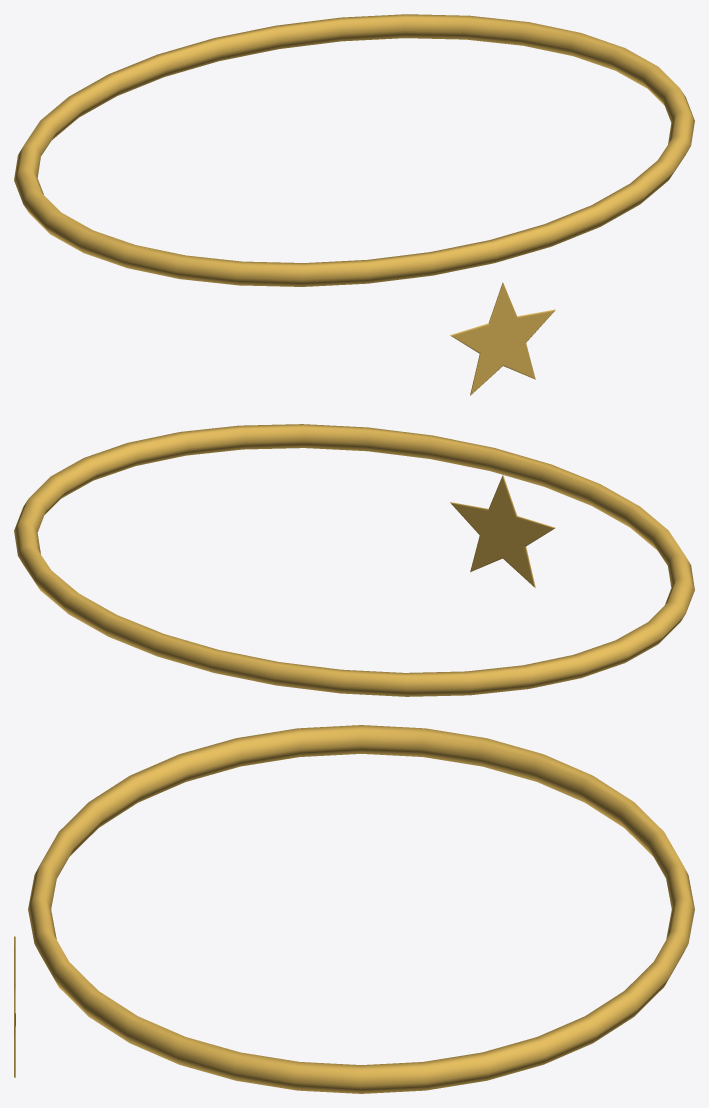
Rendered from chain_gold.glb.
3 views of the same model, one above another, from view 1: azimuth 30°, elevation 25°; view 2: azimuth 150°, elevation 25°; view 3: azimuth 270°, elevation 25° (orthographic). The views are drawn at different scales.
Visible parts, largest first — view 1: Cadena dorada; view 2: Cadena dorada; view 3: Cadena dorada.
Part boxes in pixels (bbox=[...]): Cadena dorada: bbox=[14, 14, 694, 395]; Cadena dorada: bbox=[14, 424, 694, 696]; Cadena dorada: bbox=[14, 725, 694, 1093].
Size of the model in its own units: 0.518 by 0.1105 by 0.4231.
